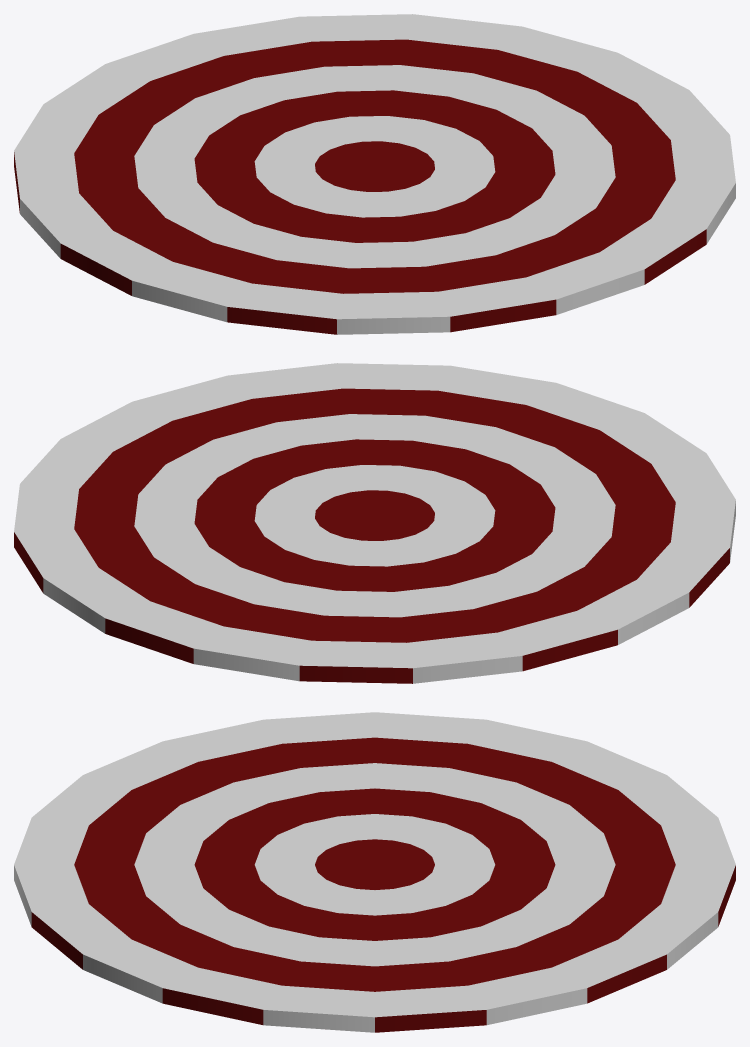
The model's file is Target.fbx.
3 renders of one model, top to bottom at view 1: azimuth 30°, elevation 25°; view 2: azimuth 150°, elevation 25°; view 3: azimuth 270°, elevation 25°, orthographic.
Parts seen in each view (by area): view 1: pCylinder2; view 2: pCylinder2; view 3: pCylinder2.
Part boxes in pixels (x1,y1,x2,y2): pCylinder2: (14, 14, 735, 334); pCylinder2: (14, 363, 735, 683); pCylinder2: (14, 712, 735, 1032).
Bounding box in the file's own units: 12 × 0.2842 × 12.
